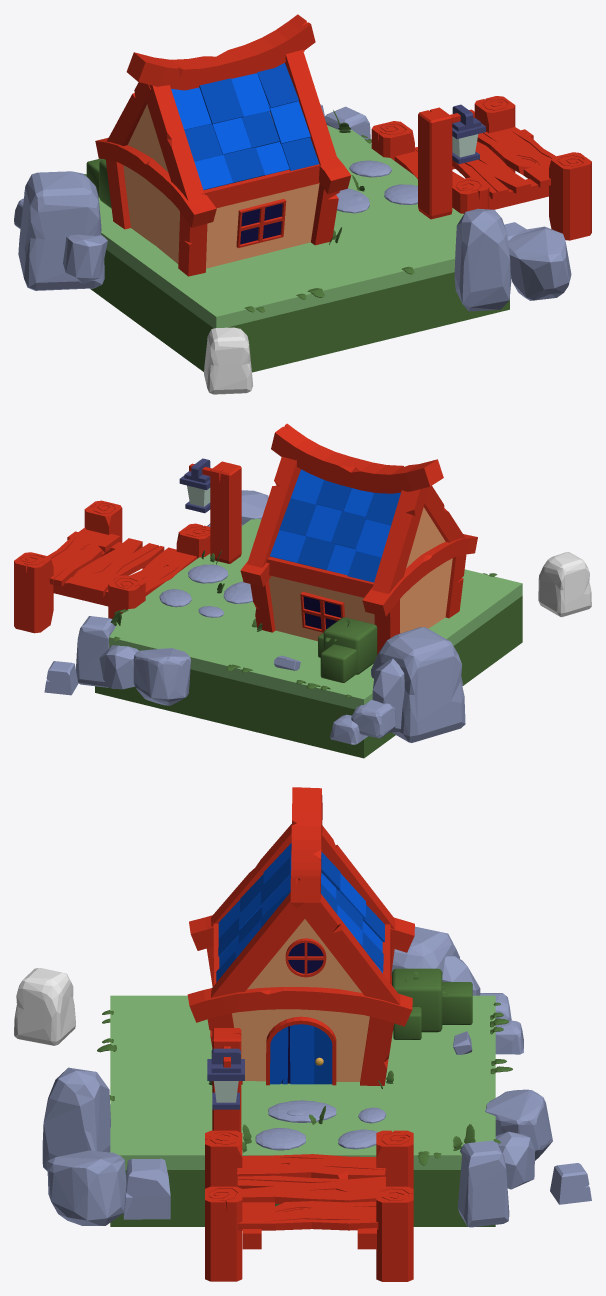
The model's file is enviro_ft_kait.fbx.
3 views of the same model, one above another, from view 1: azimuth 30°, elevation 25°; view 2: azimuth 150°, elevation 25°; view 3: azimuth 270°, elevation 25° (orthographic). The views are drawn at different scales.
Visible parts, largest first — view 1: Base, tiles left, house, Cubo.056, top_beam, Cubo.103, Cubo.102, Cubo.046, Cubo.045, sup_beam_left_back, Cubo.068, arch_back (+20 smaller); view 2: Base, tiles_r, Cubo.056, house, top_beam, Cubo.046, Cubo, Cubo.055, Cubo.068, sup_beam_r_back, Cubo.041, arch_back (+27 smaller); view 3: Base, house, Cubo.103, Cubo.102, arch, door, Cubo.068, tiles left, Cubo.052, Cubo.038, support_beam_r, Cubo (+28 smaller).
Boxes of the visible parts, <box> form: Base: <box>90,125,509,372</box>; tiles left: <box>171,63,319,190</box>; house: <box>123,104,319,268</box>; Cubo.056: <box>18,171,104,290</box>; top_beam: <box>126,14,315,90</box>; Cubo.103: <box>454,208,511,311</box>; Cubo.102: <box>508,226,571,300</box>; Cubo.046: <box>418,107,452,219</box>; Cubo.045: <box>549,152,591,240</box>; sup_beam_left_back: <box>146,85,205,200</box>; Cubo.068: <box>204,327,253,394</box>; arch_back: <box>95,137,216,227</box>; Base: <box>95,518,522,758</box>; tiles_r: <box>270,469,400,582</box>; Cubo.056: <box>371,627,465,742</box>; house: <box>268,507,452,641</box>; top_beam: <box>271,423,443,493</box>; Cubo.046: <box>210,461,241,563</box>; Cubo: <box>14,552,53,633</box>; Cubo.055: <box>133,648,190,705</box>; Cubo.068: <box>538,552,591,617</box>; sup_beam_r_back: <box>372,487,429,593</box>; Cubo.041: <box>67,538,164,596</box>; arch_back: <box>362,534,477,616</box>; Base: <box>110,995,495,1226</box>; house: <box>232,919,369,1081</box>; Cubo.103: <box>42,1067,110,1171</box>; Cubo.102: <box>47,1150,126,1225</box>; arch: <box>187,987,412,1026</box>; door: <box>266,1016,336,1085</box>; Cubo.068: <box>14,968,75,1045</box>; tiles left: <box>216,843,291,982</box>; Cubo.052: <box>457,1140,509,1227</box>; Cubo.038: <box>237,1201,378,1230</box>; support_beam_r: <box>289,893,400,1004</box>; Cubo: <box>376,1186,413,1281</box>.
Size of the model in its own units: 2134 by 1066 by 1951.
